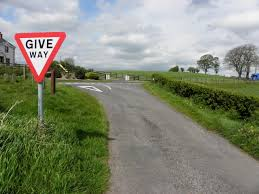giveway: (13, 30, 68, 85)
